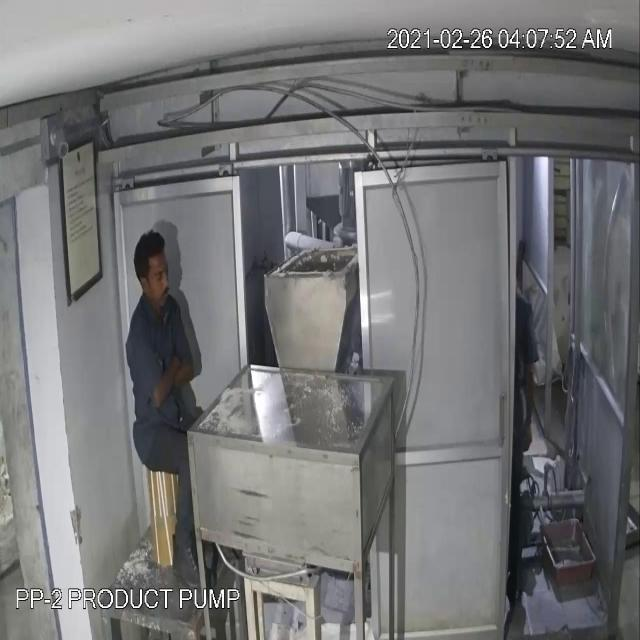no-helmet: (128, 221, 176, 282)
